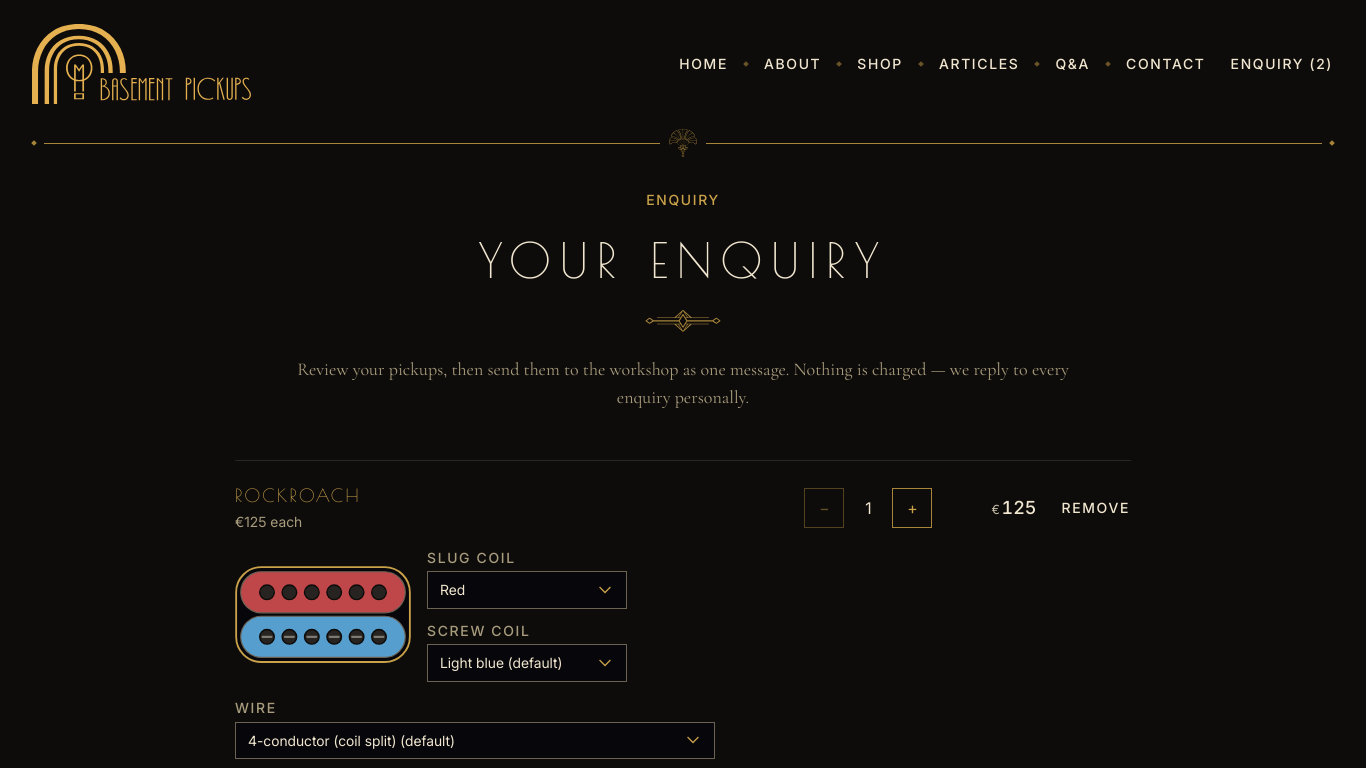
it: CartPage › removes lines, moving focus to a neighbour and finally to main
The image size is (1366, 768).
Click the button "Remove" at (1096, 508), box x1=1060 y1=488 x2=1131 y2=528
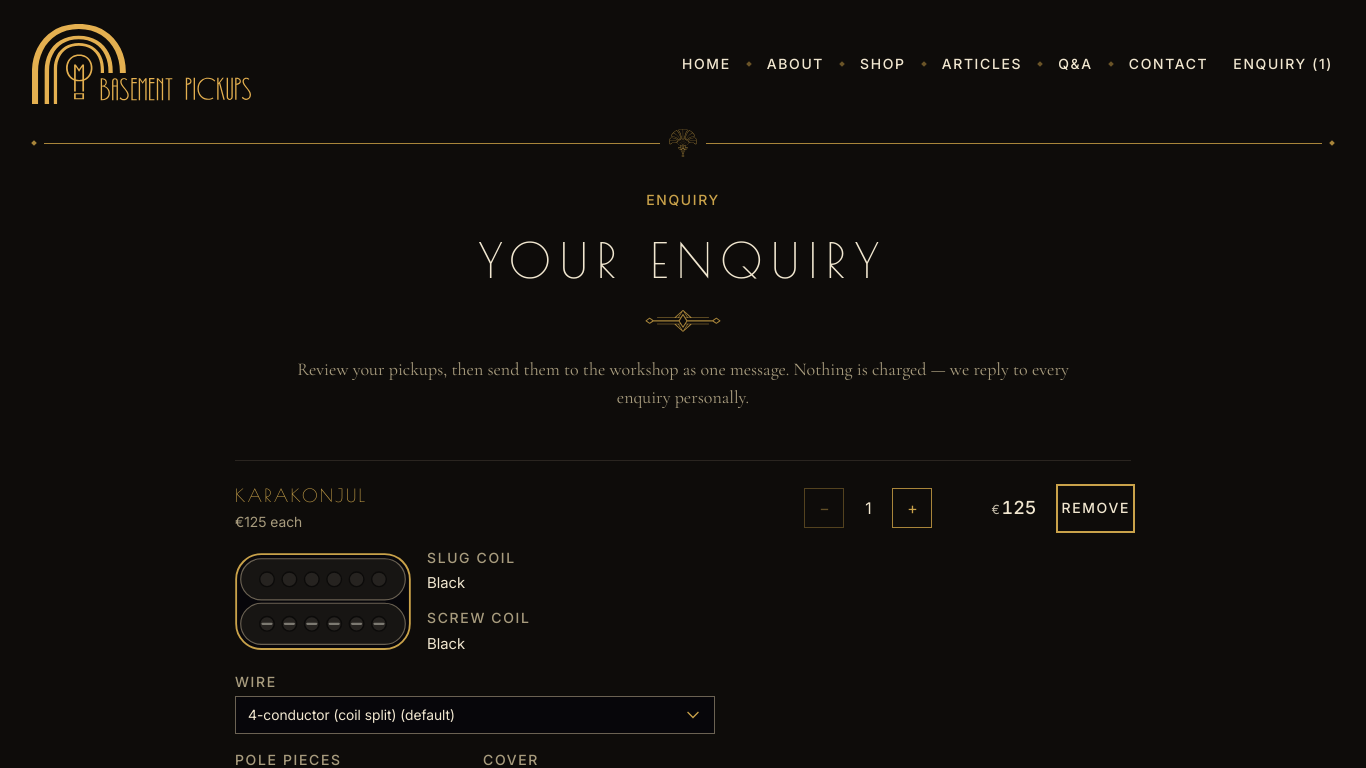
Click the button "Remove" at (1096, 508), box x1=1060 y1=488 x2=1131 y2=528
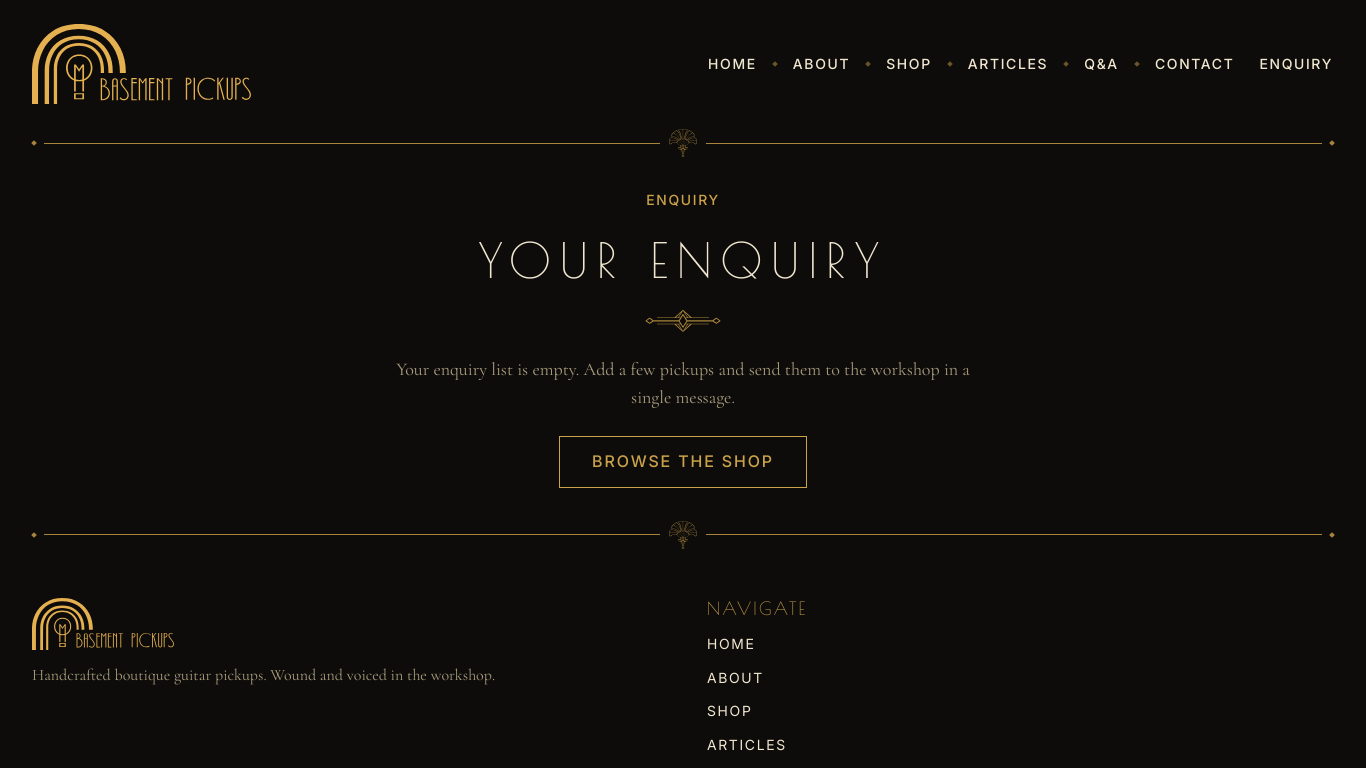
expect the element with test id "cart-empty" is shown: met, box x1=396 y1=191 x2=970 y2=488
